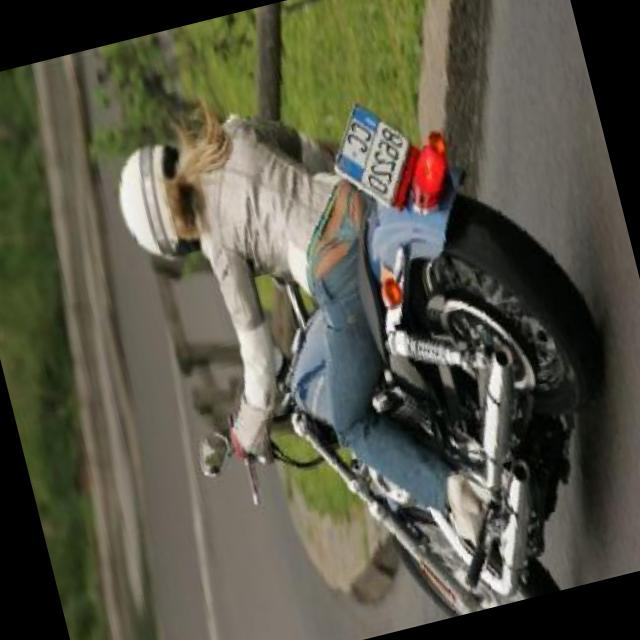With Helmet: (95, 118, 222, 280)
